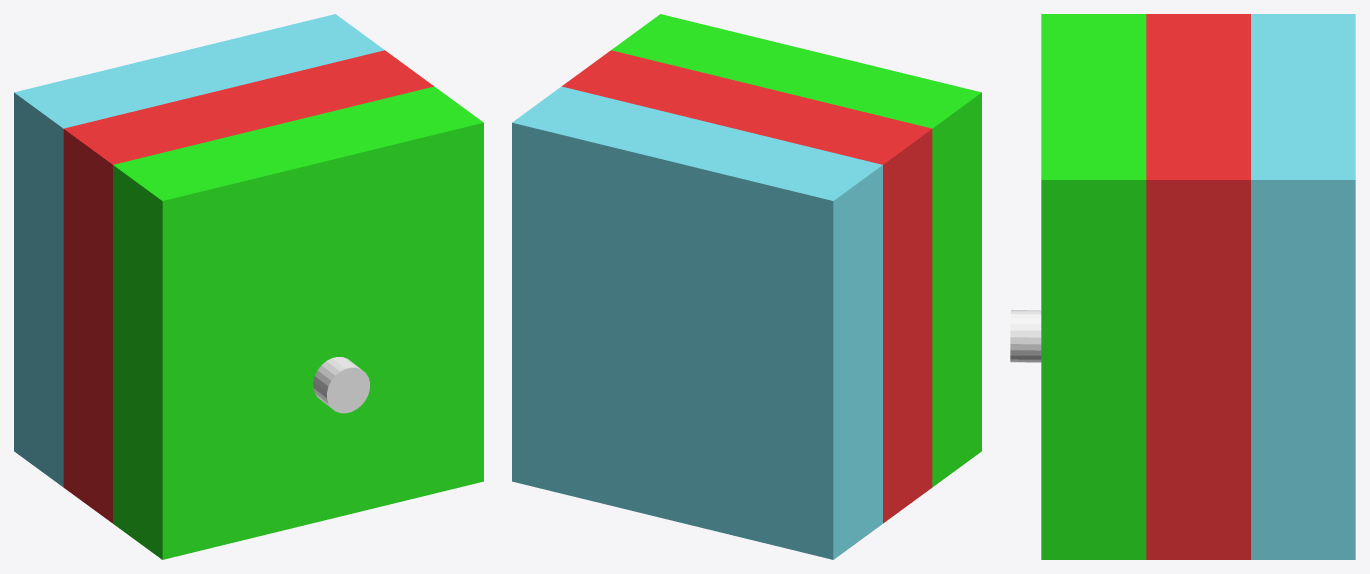
File: 3wall.dae
The picture shows the model from 3 angles, left to right: view 1: azimuth 30°, elevation 25°; view 2: azimuth 150°, elevation 25°; view 3: azimuth 270°, elevation 25°; orthographic projection. The views are drawn at different scales.
Visible parts, largest first — view 1: green_wall, red_wall, blue_wall, cylinder; view 2: blue_wall, red_wall, green_wall; view 3: green_wall, blue_wall, red_wall, cylinder.
Boxes of the visible parts, x1,y1,x2,y2 form: green_wall: (113, 86, 483, 559); red_wall: (63, 50, 433, 523); blue_wall: (14, 14, 384, 487); cylinder: (313, 357, 369, 413); blue_wall: (512, 86, 882, 559); red_wall: (562, 50, 932, 523); green_wall: (611, 14, 981, 487); green_wall: (1041, 14, 1146, 559); blue_wall: (1251, 14, 1355, 559); red_wall: (1146, 14, 1250, 559); cylinder: (1010, 310, 1041, 362).
Size of the model in its own units: 591 by 519 by 630.
